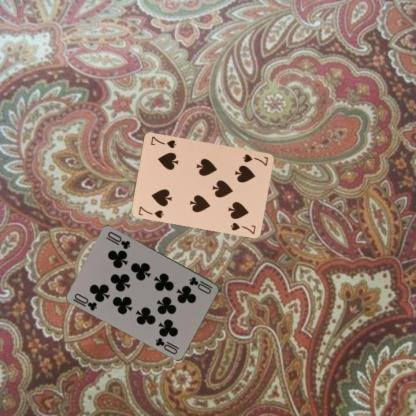10c: (186, 274, 214, 296), (70, 290, 98, 312)
7s: (240, 151, 270, 167), (136, 204, 166, 220)
